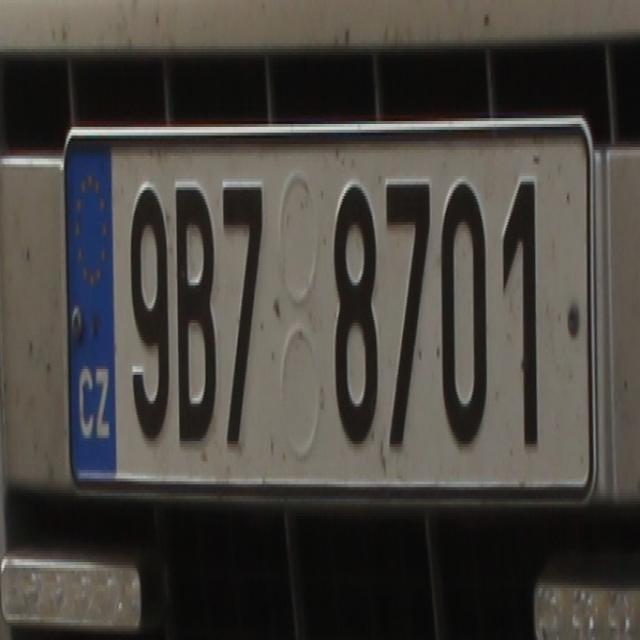0: (439, 176, 490, 441)
1: (501, 176, 537, 450)
7: (381, 173, 428, 453), (218, 179, 267, 447)
9: (130, 179, 169, 438)
B: (332, 182, 379, 444), (172, 182, 216, 444)
